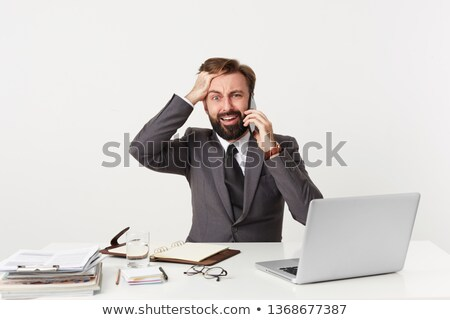phone: (245, 91, 266, 133)
talk: (206, 88, 276, 151)
